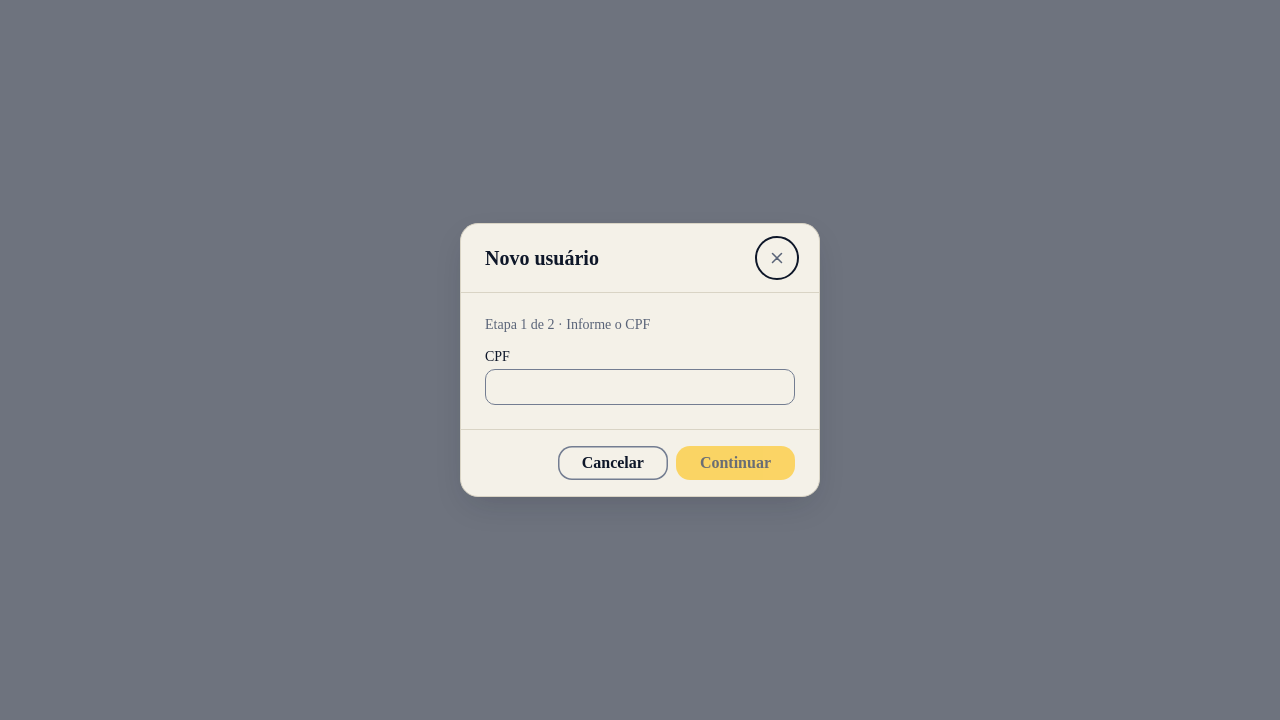
Test case: NovoUsuarioModal › Voltar mantém o CPF digitado
Type "529.982.247-25" into the field labelled "CPF" at x=640, y=387, box [485,369,795,405]
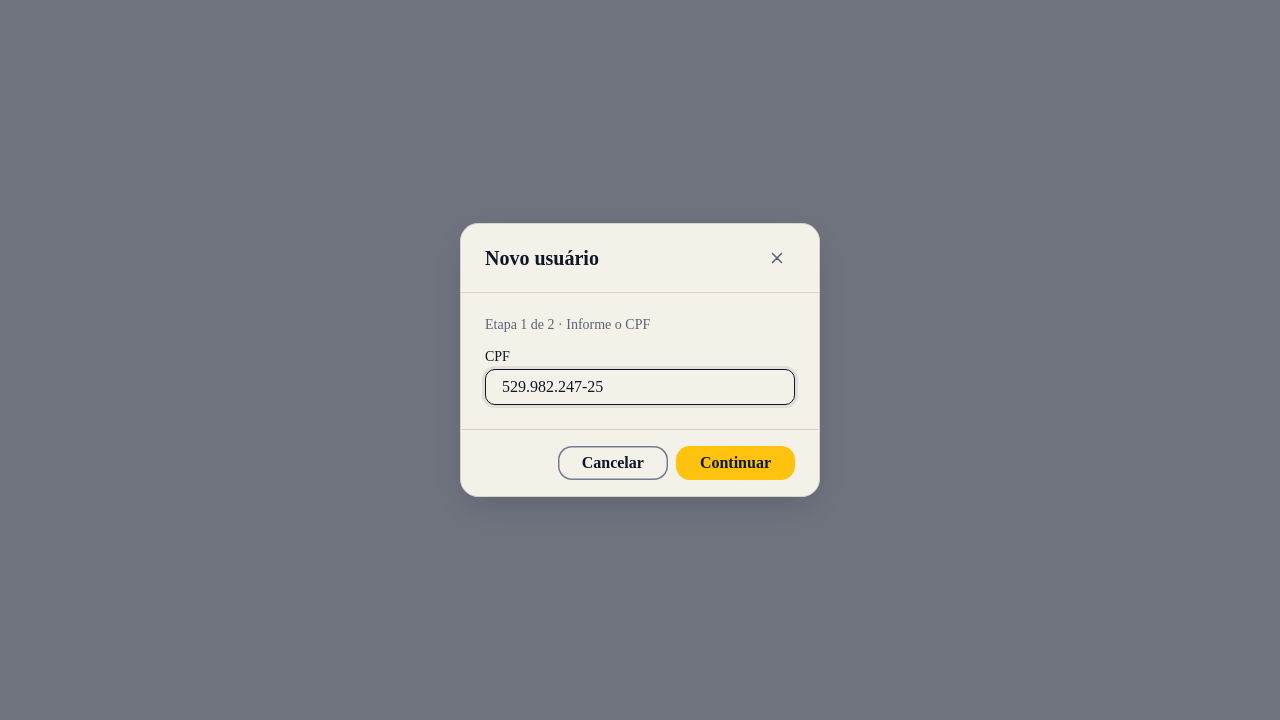
Click the button "Continuar" at x=735, y=463, box [676,446,795,480]
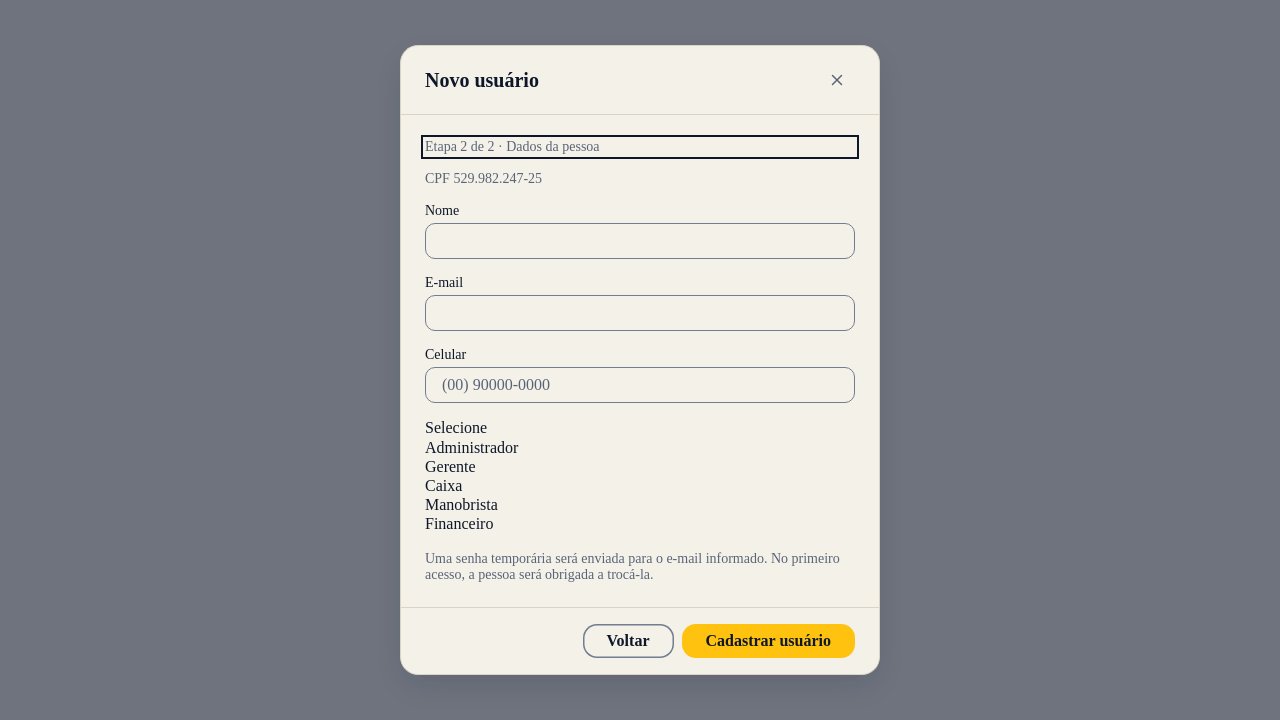
Result: the field labelled "Nome" is shown at [425,223,855,259]
Click the button "Voltar" at x=628, y=641, box [582,624,674,658]
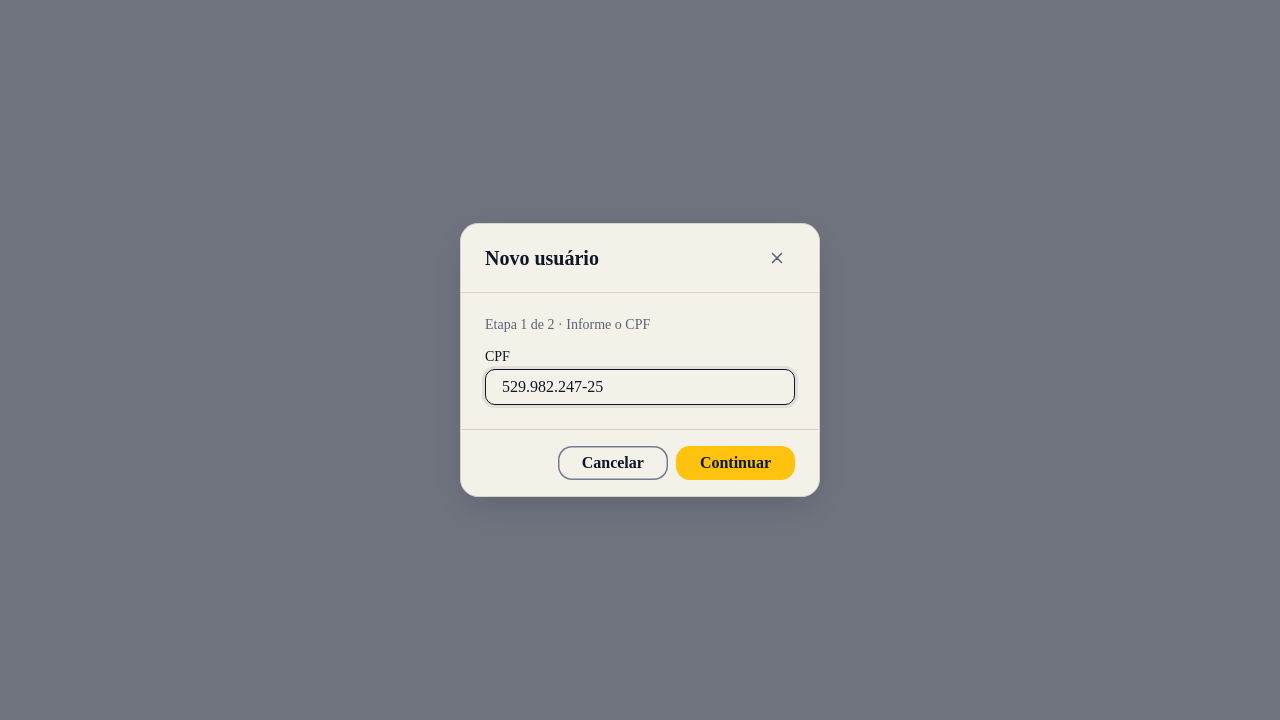
Result: the field labelled "CPF" holds "529.982.247-25" at [485,369,795,405]
